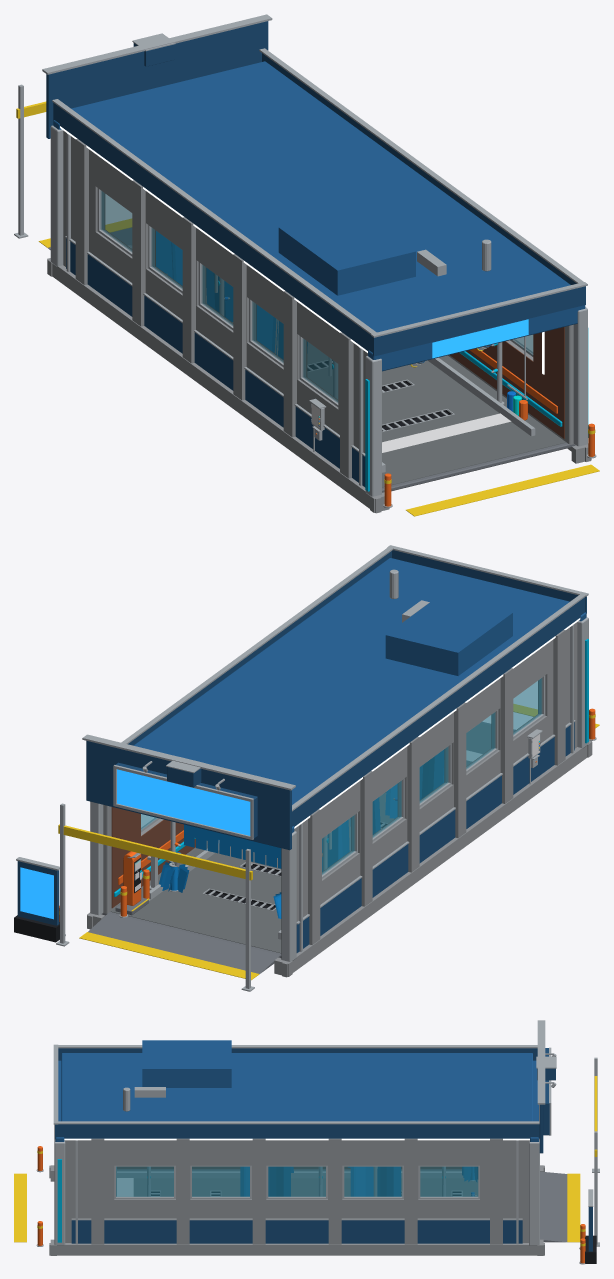
Rendered from ericrolph_cannon_car_wash_lowvram.dae.
3 renders of one model, top to bottom at view 1: azimuth 30°, elevation 25°; view 2: azimuth 150°, elevation 25°; view 3: azimuth 270°, elevation 25°, orthographic. The views are drawn at different scales.
Visible parts, largest first — view 1: ericrolph_cannon_car_wash_lowvram_selector_visual; view 2: ericrolph_cannon_car_wash_lowvram_selector_visual, ericrolph_cannon_car_wash_lowvram_MitterStrips; view 3: ericrolph_cannon_car_wash_lowvram_selector_visual.
Part boxes in pixels (x1,y1,x2,y2): ericrolph_cannon_car_wash_lowvram_selector_visual: (14,14,599,516); ericrolph_cannon_car_wash_lowvram_selector_visual: (14,545,599,991); ericrolph_cannon_car_wash_lowvram_MitterStrips: (184,824,337,871); ericrolph_cannon_car_wash_lowvram_selector_visual: (14,1020,599,1264).
Size of the model in its own units: 8.82 by 22.35 by 6.49.
